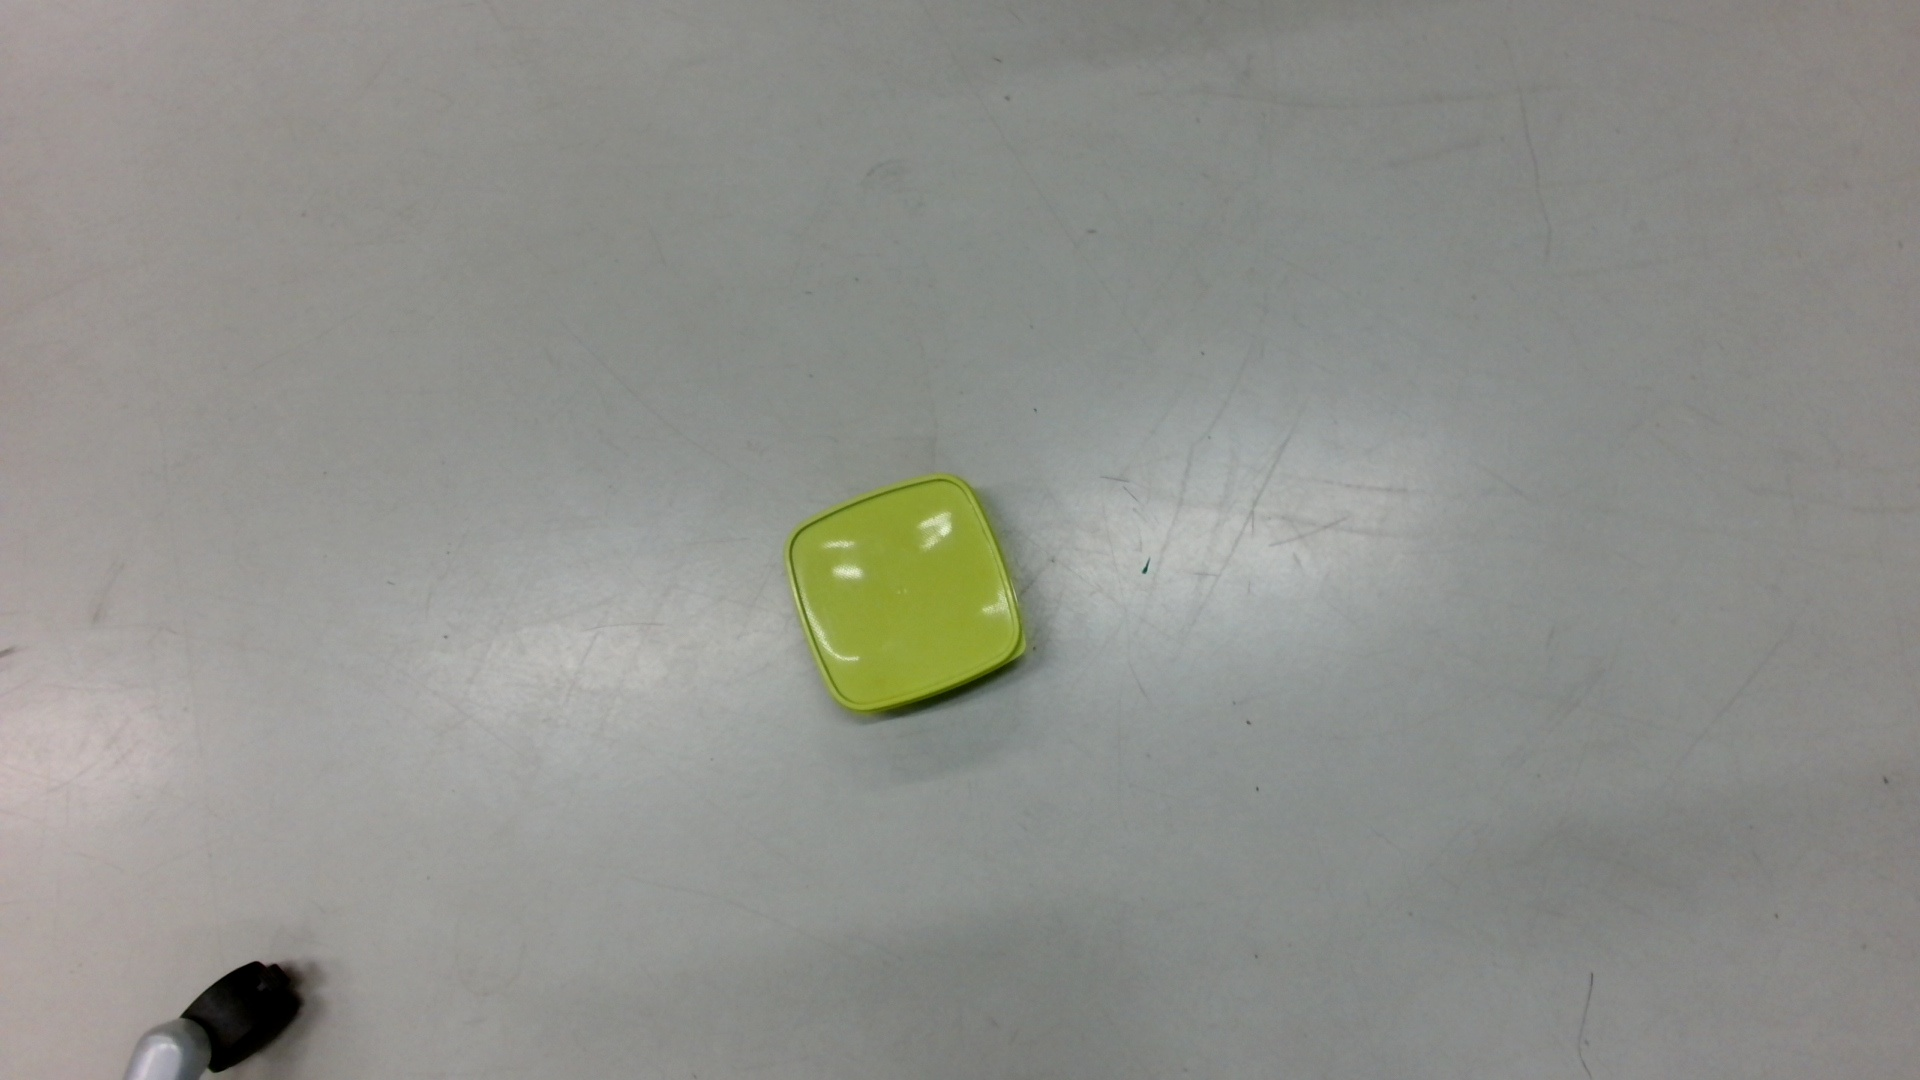Box: (782, 468, 1036, 719)
